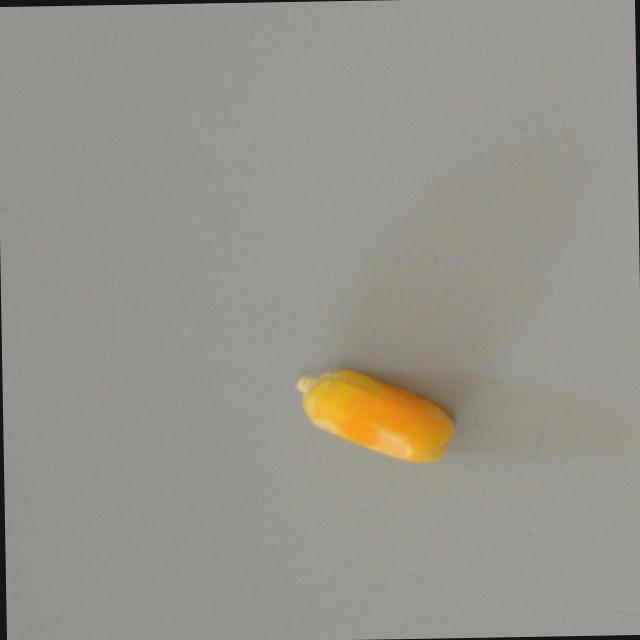entero: (290, 352, 460, 468)
